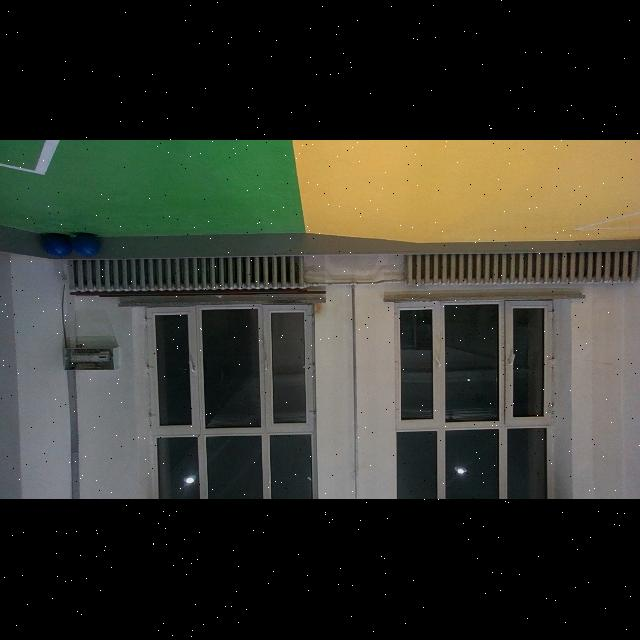R: (43, 234, 73, 258), (72, 234, 100, 258)
